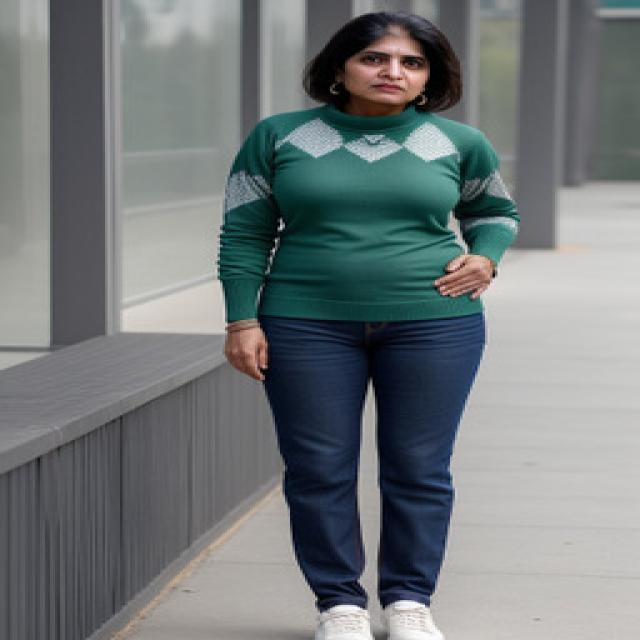Ai human 2: (198, 9, 538, 640)
